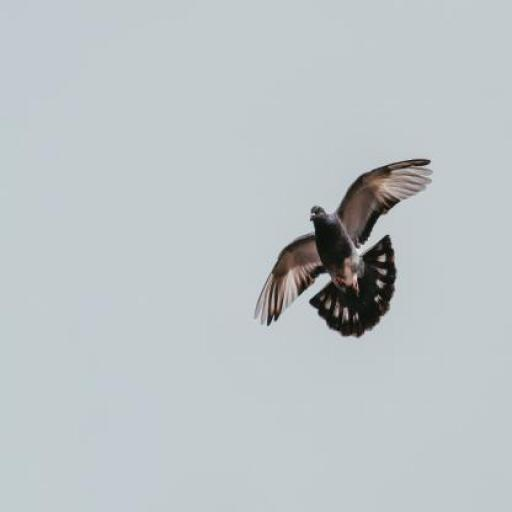bird: (255, 158, 433, 338)
